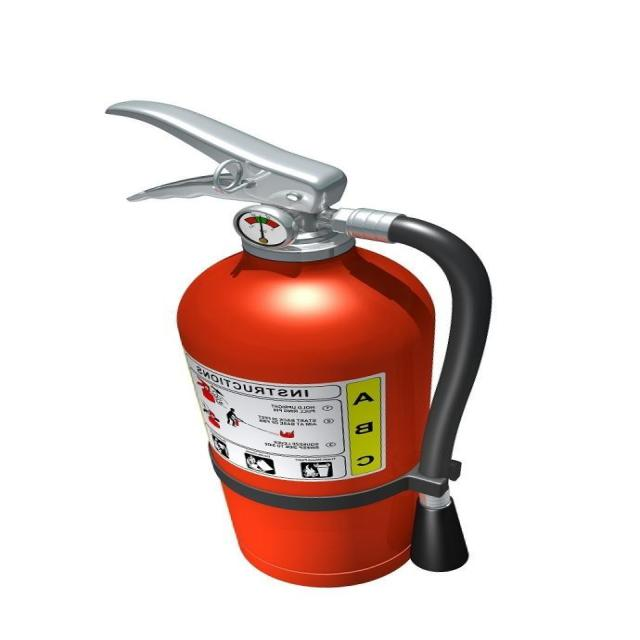fire_extinguisher: (96, 94, 504, 594)
